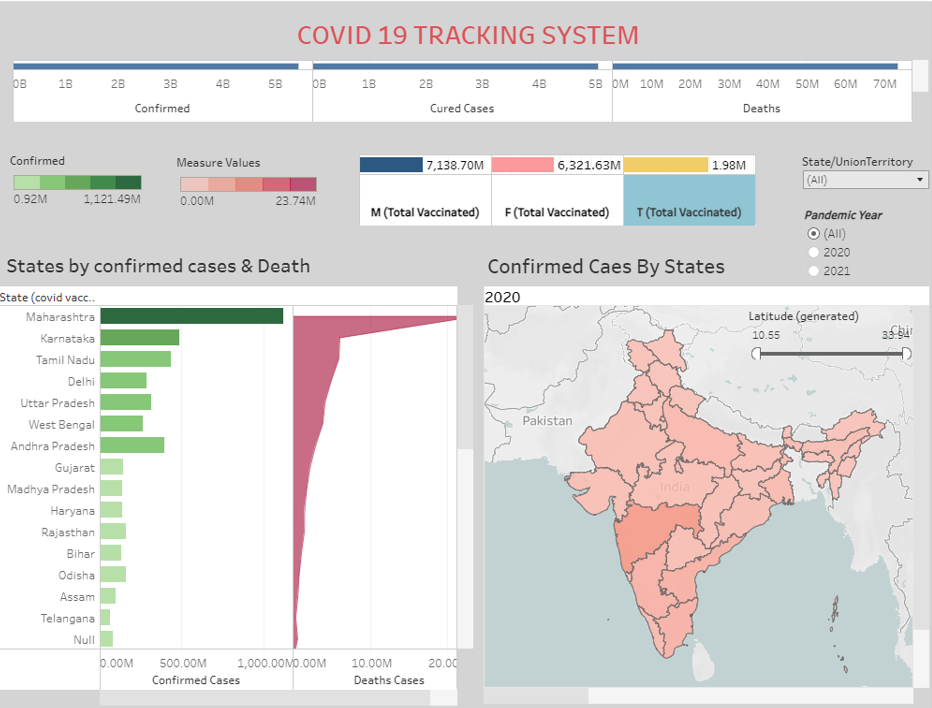

What the dashboard file says about the page in this screenshot:
{"tool":"tableau","page":{"name":"Covid Tracking System","canvas":[1000,800],"ordinal":0},"visuals":[{"type":"worksheet","title":"Sheet 1","mark":"Automatic","cols":["Confirmed","Cured","Deaths"],"box":[17.6,9.4,979.5,118.8]},{"type":"worksheet","title":"Sheet 4","mark":"Automatic","cols":["Male(Individuals Vaccinated)","Female(Individuals Vaccinated)","Transgender(Individuals Vaccinated)"],"box":[387.7,147.9,438.5,97.9]},{"type":"legend","title":"Sheet 2","param":"[federated.1g8hi3e120tg9g199wpal0rgsju6].[sum:Confirmed:qk]","box":[14.7,161.5,145.5,62.5]},{"type":"filter","title":"Sheet 3","param":"[federated.1g8hi3e120tg9g199wpal0rgsju6].[none:State/UnionTerritory:nk]","box":[861.3,161.5,136.7,49]},{"type":"legend","title":"Sheet 2","param":"[federated.1g8hi3e120tg9g199wpal0rgsju6].[Multiple Values]","box":[193.4,162.5,153.3,58.3]},{"type":"filter","title":"Sheet 3","param":"[federated.1g8hi3e120tg9g199wpal0rgsju6].[yr:Date:ok]","box":[863.3,217.7,133.8,82.3]},{"type":"worksheet","title":"Sheet 3","mark":"Automatic","cols":["Date"],"box":[521.5,260.4,475.6,489.6]},{"type":"worksheet","title":"Sheet 2","mark":"Bar","rows":["State (covid_vaccine_statewise.csv)"],"cols":["Confirmed"],"box":[2.9,261.5,506.8,490.6]},{"type":"filter","title":"Sheet 3","param":"[federated.1g8hi3e120tg9g199wpal0rgsju6].[Latitude (generated)]","box":[803.7,326,176.8,56.2]}]}

Visuals, with their boxes on the page's 1000x800 design canvas (x1, y1, x2, y2). These are canvas units, not pixel positions in the 932x708 screenshot, which may show the page scaled, cropped or inside an application window:
"Sheet 1" worksheet: 18/9/997/128
"Sheet 4" worksheet: 388/148/826/246
"Sheet 2" legend: 15/162/160/224
"Sheet 3" filter: 861/162/998/210
"Sheet 2" legend: 193/162/347/221
"Sheet 3" filter: 863/218/997/300
"Sheet 3" worksheet: 522/260/997/750
"Sheet 2" worksheet (Bar marks): 3/262/510/752
"Sheet 3" filter: 804/326/980/382
